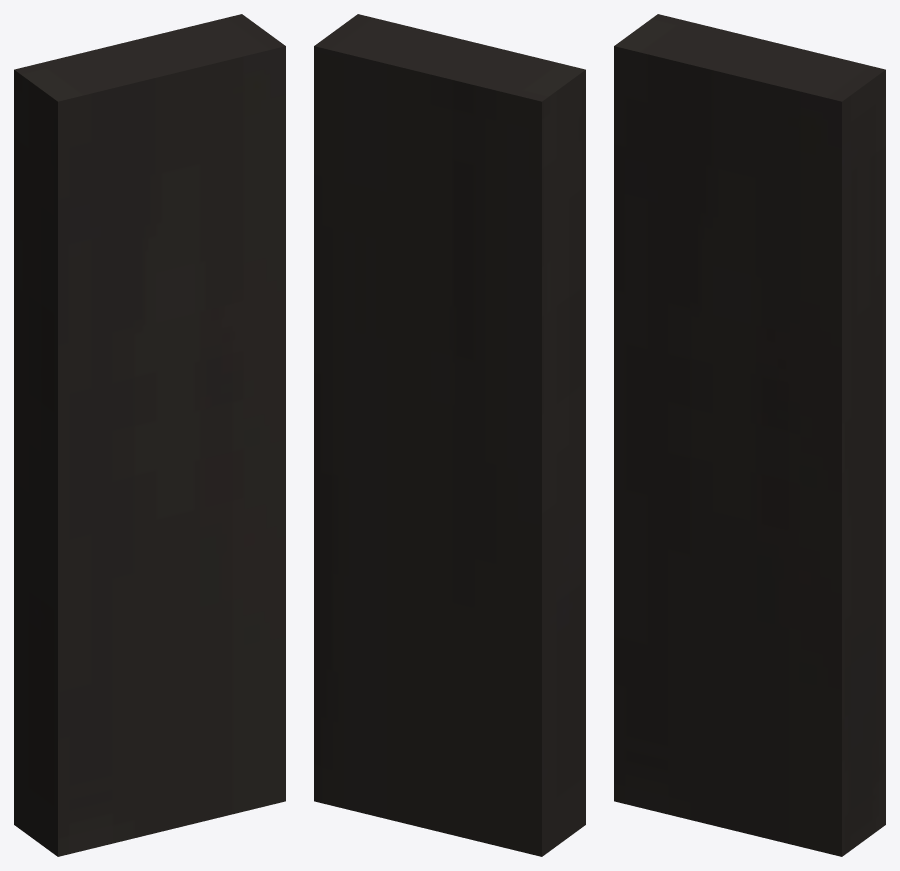
Rendered from frame__front_foot.glb.
3 renders of one model, left to right at view 1: azimuth 30°, elevation 25°; view 2: azimuth 150°, elevation 25°; view 3: azimuth 330°, elevation 25°, orthographic.
Parts seen in each view (by area): view 1: world; view 2: world; view 3: world.
Boxes of the visible parts, x1=… form: world: x1=14, y1=14, x2=285, y2=856; world: x1=314, y1=14, x2=585, y2=856; world: x1=614, y1=14, x2=885, y2=856.
Bounding box in the file's own units: 0.12 × 0.38 × 0.04.
Materials: 1 (1 with a texture image).
